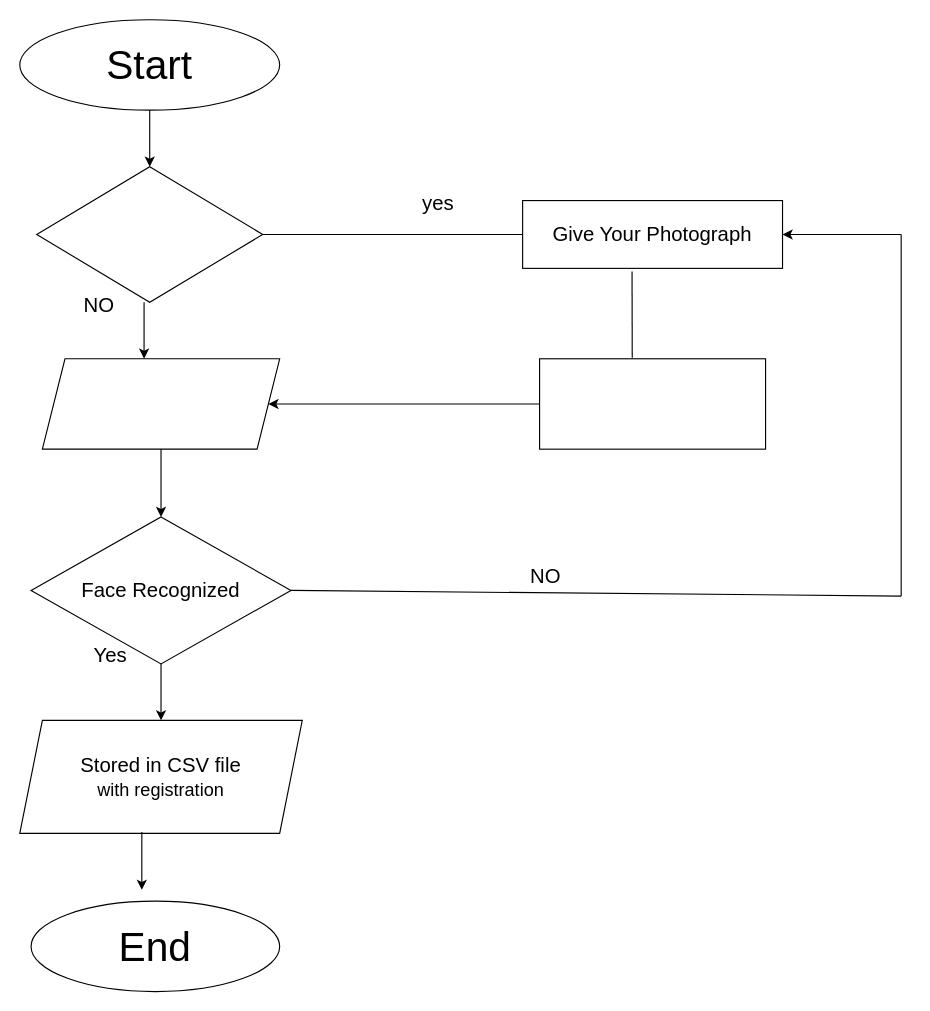
This 930x1011 diagram has some shape labels left out. The shapes that lost their labels are listed below. From the top down, each one's centre as x and y in pixels, then its label:
[149,234]: New User ?
[160,403]: Recognize the Face
[652,403]: Store the face data in folder on your name
